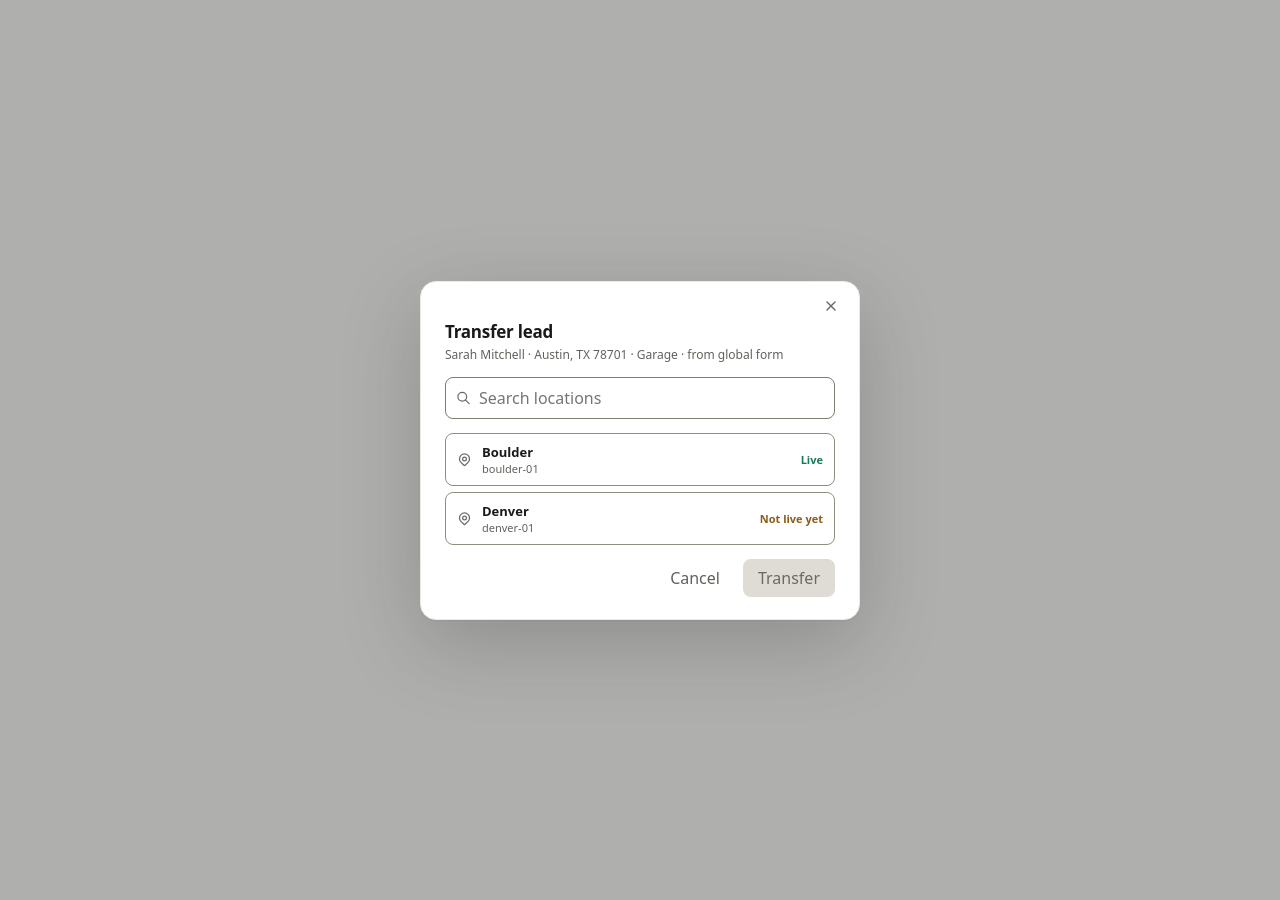
TransferLeadModal › NON-active destination shows the amber "isn't live yet" warning, still allows transfer
The width and height of the screenshot is (1280, 900).
Click the option "Denver denver-01 Not live yet": x=505, y=510 [445,492,835,544]
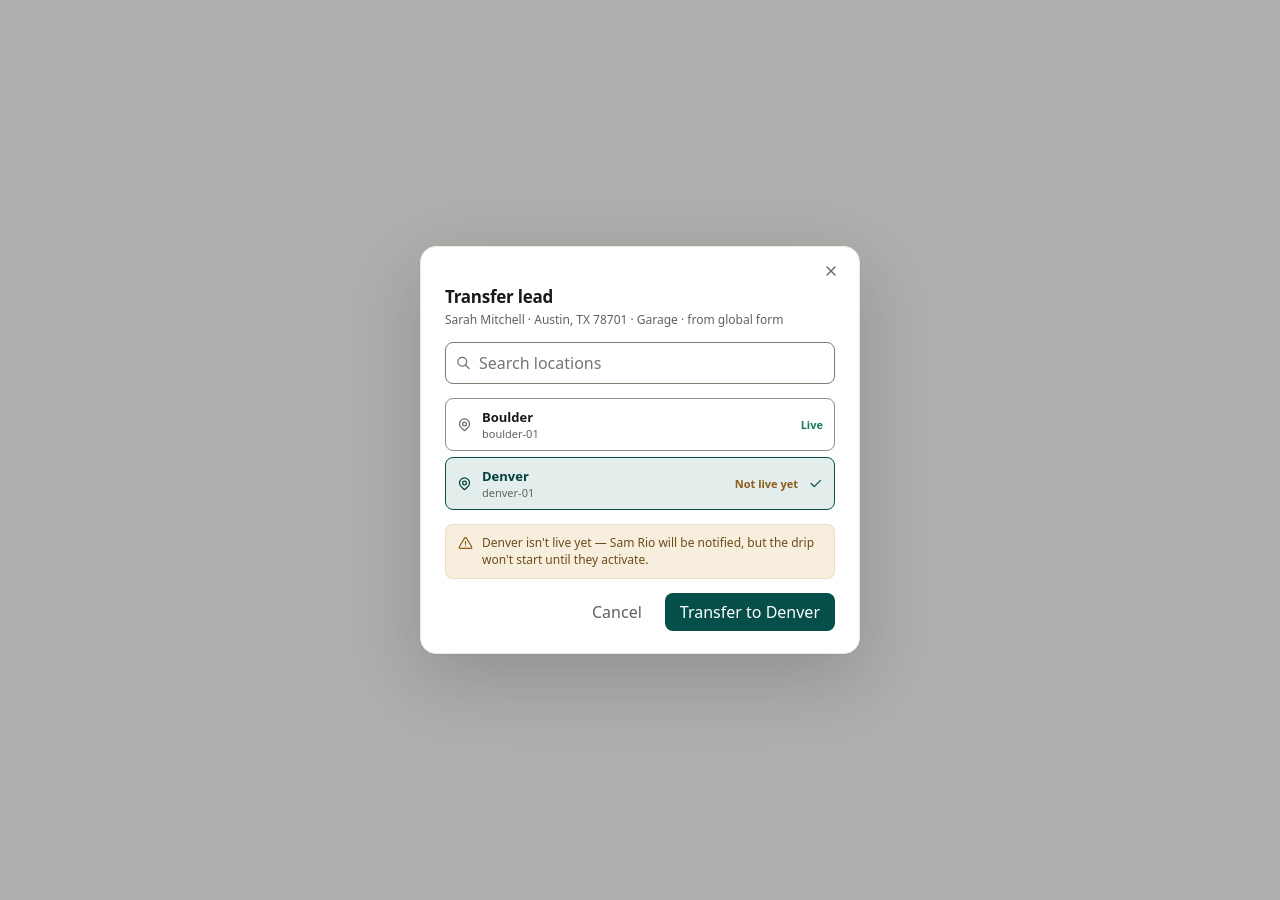
Expected: the text "Denver isn't live yet" is shown, [482,535,822,568]
Expected: the text "won't start until they activate" is shown, [482,534,814,568]
Expected: the button "Transfer to Denver" is enabled, [665,593,835,631]
